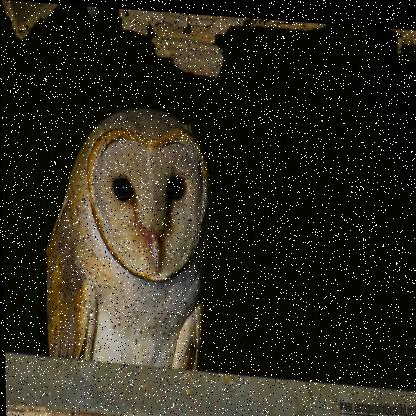Burung: (41, 95, 209, 369)
